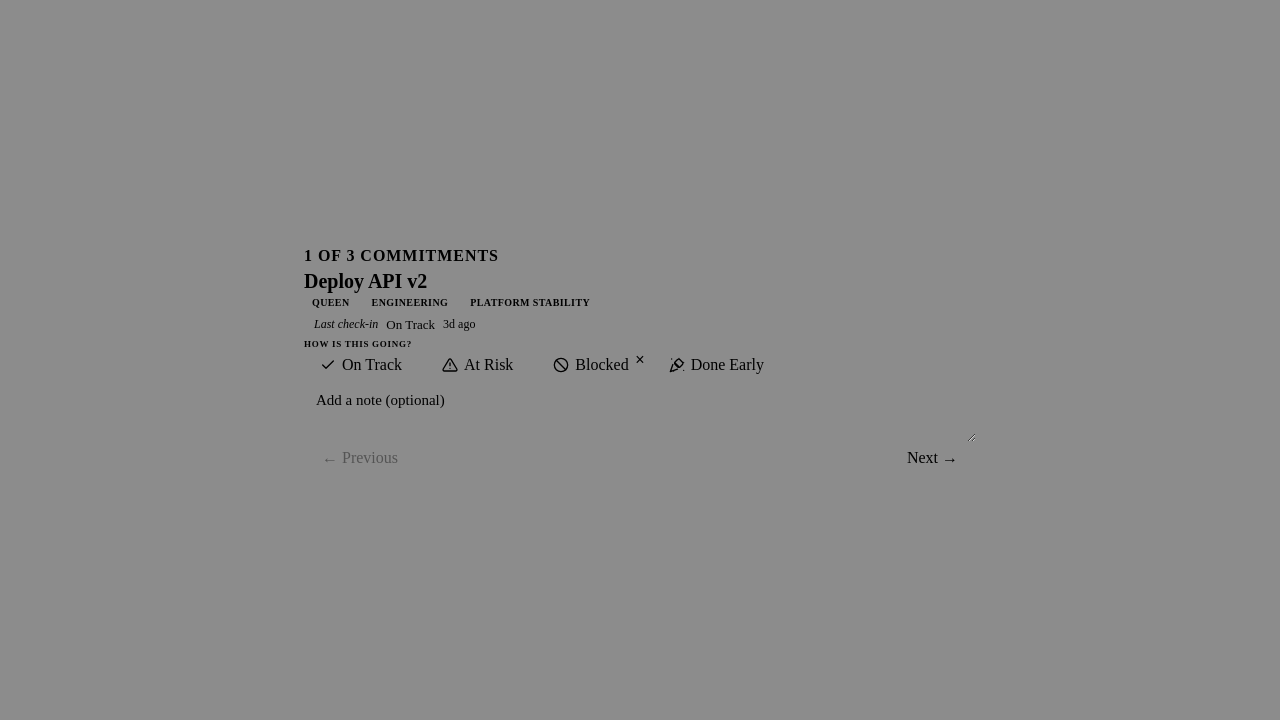
Test: QuickUpdateFlow › clicking Previous returns to the first card after advancing
Click the button with test id "quick-update-next" at [932, 458], box [889,442,976,474]
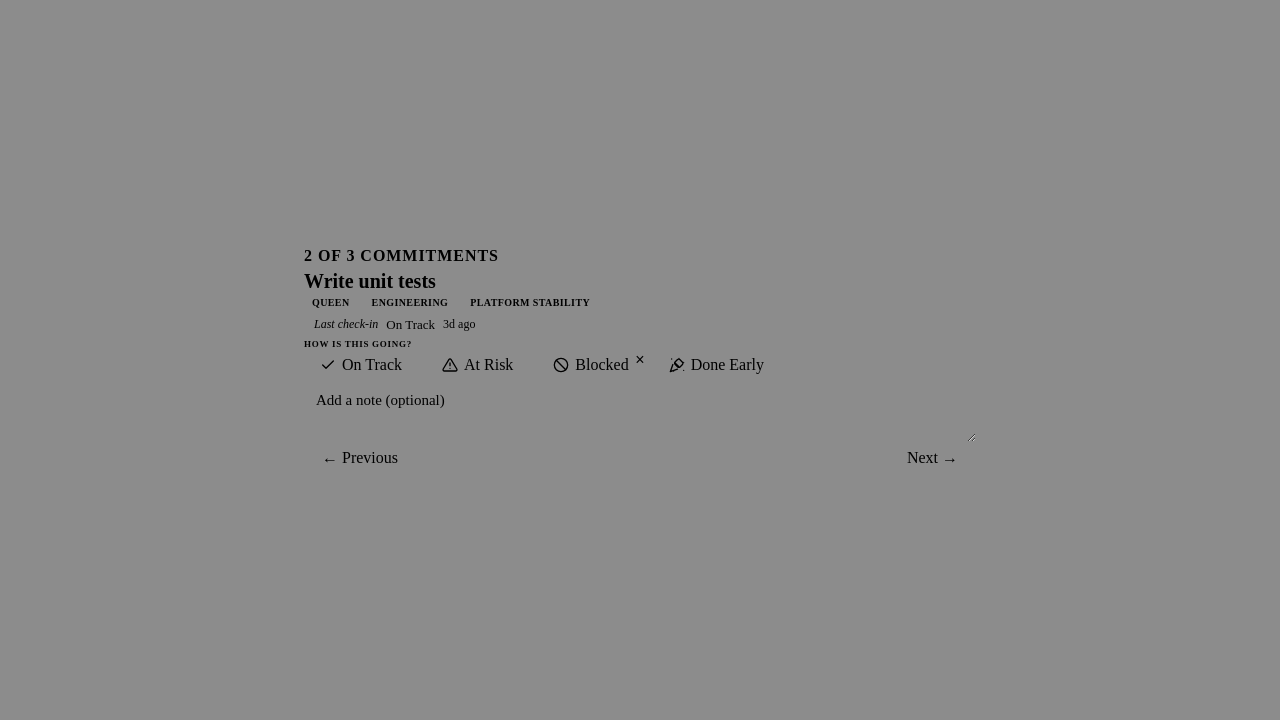
Check: the element with test id "quick-update-card" shows "Write unit tests", box [304,270,436,292]
Click the button with test id "quick-update-prev" at [360, 458], box [304,442,416,474]
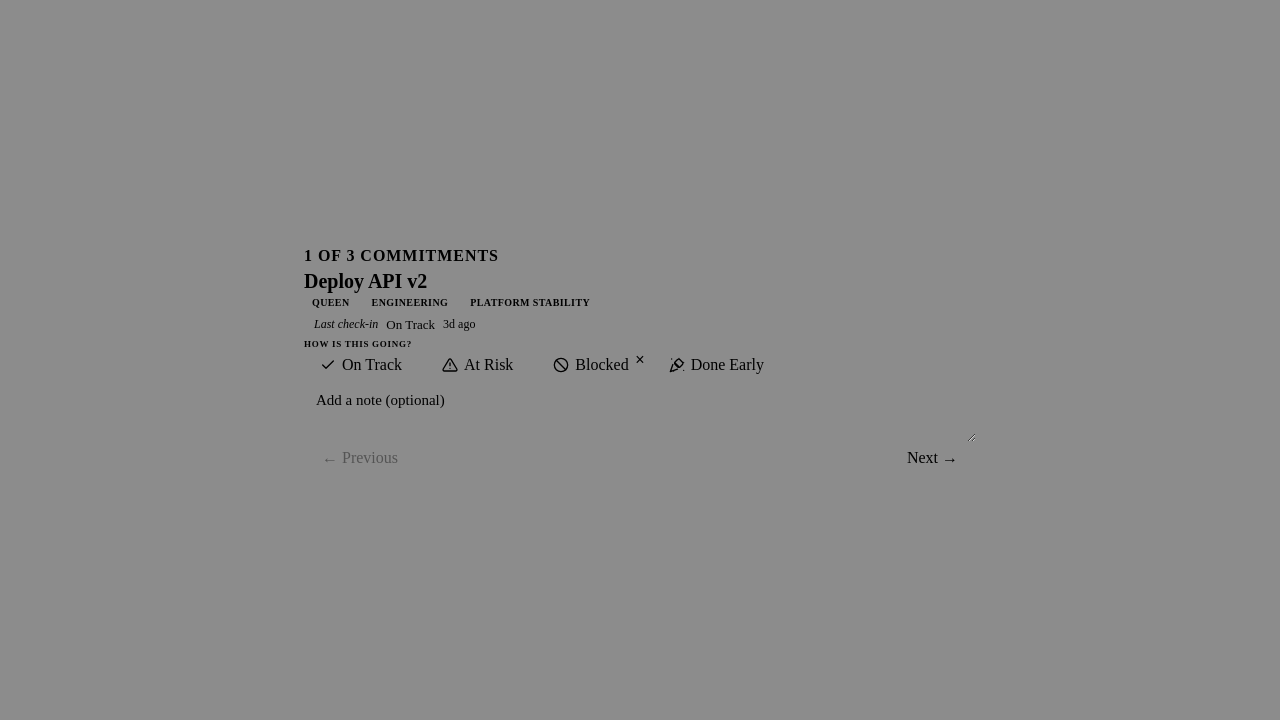
Check: the element with test id "quick-update-card" shows "Deploy API v2", box [304,270,427,292]
